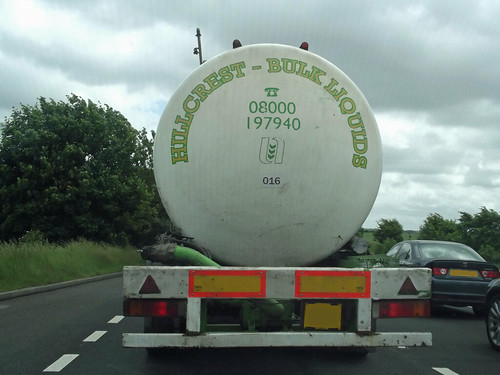car: (378, 225, 494, 312)
sky: (1, 1, 489, 200)
tree: (1, 81, 158, 274)
truck: (128, 36, 427, 343)
